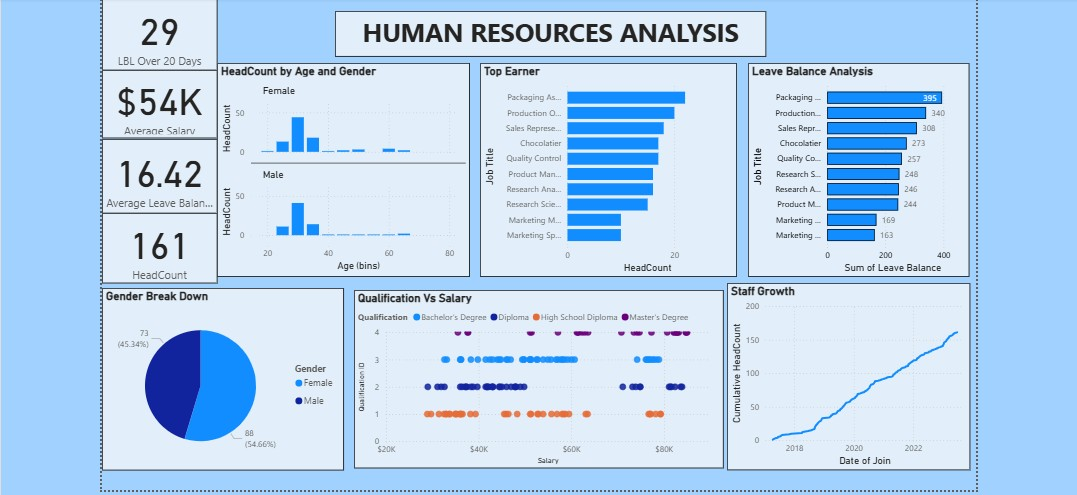

The dashboard page shown, as its layout file describes it:
{"tool":"powerbi","page":{"name":"Page 3","canvas":[1280,720],"ordinal":2},"visuals":[{"type":"card","fields":{"Values":["staff.LBL Over 20 Days"]},"box":[0,0,168.6,105.7],"z":0},{"type":"card","fields":{"Values":["staff.Average Leave Balance"]},"box":[0,205.7,168.6,108.6],"z":1},{"type":"card","fields":{"Values":["staff.Average Salary"]},"box":[0,105.7,168.6,100],"z":2},{"type":"card","fields":{"Values":["staff.HeadCount"]},"box":[0,314.3,168.6,102.9],"z":3},{"type":"columnChart","title":"HeadCount by Age and Gender","fields":{"Category":["staff.Age (bins)"],"Y":["staff.HeadCount"],"Rows":["staff.Gender"]},"box":[168.6,95.7,370,312.9],"z":4},{"type":"clusteredBarChart","title":"Top Earner","fields":{"Category":["staff.Job Title"],"Y":["staff.HeadCount"]},"box":[552.9,95.7,375.7,312.9],"z":5},{"type":"pieChart","title":"Gender Break Down","fields":{"Category":["staff.Gender"],"Y":["staff.HeadCount"]},"box":[0,424.3,354.3,267.1],"z":6},{"type":"scatterChart","title":"Qualification Vs Salary ","fields":{"X":["staff.Salary"],"Y":["Education Qualification.Qualification ID"],"Series":["Education Qualification.Qualification"]},"box":[368.6,427.1,541.4,261.4],"z":7},{"type":"textbox","box":[341.4,18.6,631.4,67.1],"z":8},{"type":"lineChart","title":"Staff Growth ","fields":{"Y":["staff.Cumulative HeadCount"],"Category":["staff.Date of Join"]},"box":[914.3,417.1,355.7,274.3],"z":9},{"type":"barChart","title":" Leave Balance Analysis","fields":{"Category":["staff.Job Title"],"Y":["Sum(staff.Leave Balance)"]},"box":[945.7,95.7,324.3,312.9],"z":10}]}

Visuals, with their boxes in screenshot pixels (x1, y1, x2, y2):
card - staff.LBL Over 20 Days: bbox=(101, 0, 215, 69)
card - staff.Average Leave Balance: bbox=(101, 136, 215, 210)
card - staff.Average Salary: bbox=(101, 69, 215, 136)
card - staff.HeadCount: bbox=(101, 210, 215, 279)
"HeadCount by Age and Gender" columnChart: bbox=(215, 62, 465, 273)
"Top Earner" clusteredBarChart: bbox=(475, 62, 729, 273)
"Gender Break Down" pieChart: bbox=(101, 284, 341, 465)
"Qualification Vs Salary " scatterChart: bbox=(350, 286, 716, 463)
textbox: bbox=(332, 10, 759, 55)
"Staff Growth " lineChart: bbox=(719, 279, 960, 465)
" Leave Balance Analysis" barChart: bbox=(740, 62, 960, 273)
